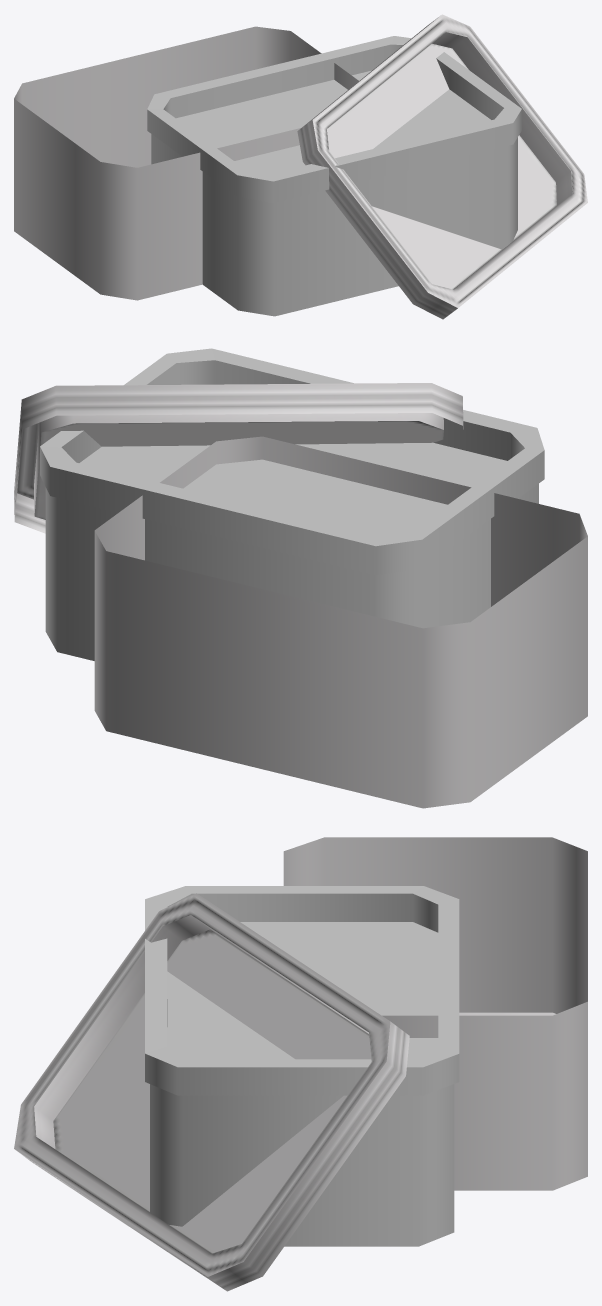
File: ScrewsBoxEmpty.fbx
3 renders of one model, top to bottom at view 1: azimuth 30°, elevation 25°; view 2: azimuth 150°, elevation 25°; view 3: azimuth 270°, elevation 25°, orthographic. The views are drawn at different scales.
Visible parts, largest first — view 1: ScrewsBox001, ScrewsBox001.001; view 2: ScrewsBox001, ScrewsBox001.001; view 3: ScrewsBox001, ScrewsBox001.001.
Boxes of the visible parts, bbox=[...] form: ScrewsBox001: bbox=[14, 14, 587, 319]; ScrewsBox001.001: bbox=[147, 36, 521, 316]; ScrewsBox001: bbox=[14, 383, 587, 808]; ScrewsBox001.001: bbox=[40, 348, 544, 660]; ScrewsBox001: bbox=[14, 837, 587, 1291]; ScrewsBox001.001: bbox=[145, 886, 459, 1246].
Bounding box in the file's own units: 57.74 × 21.09 × 47.99.
